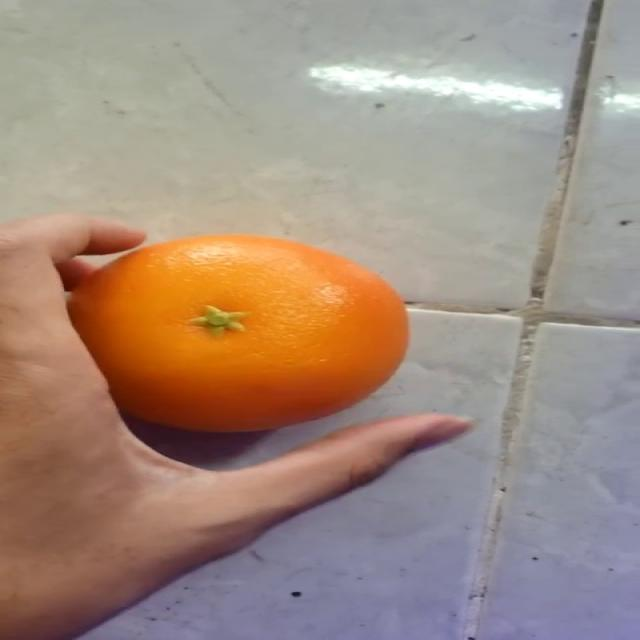Orange: (66, 231, 410, 433)
